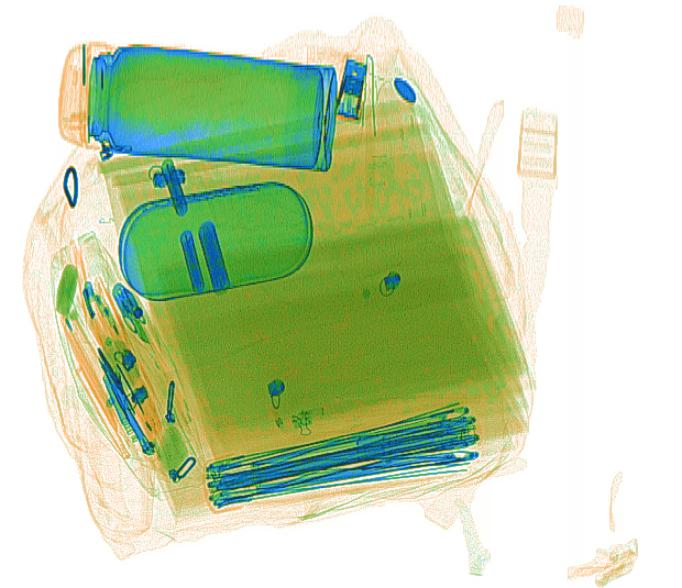USBFlashDisk: (111, 284, 148, 342)
battery: (192, 221, 231, 293), (179, 230, 205, 292), (158, 158, 186, 212)
